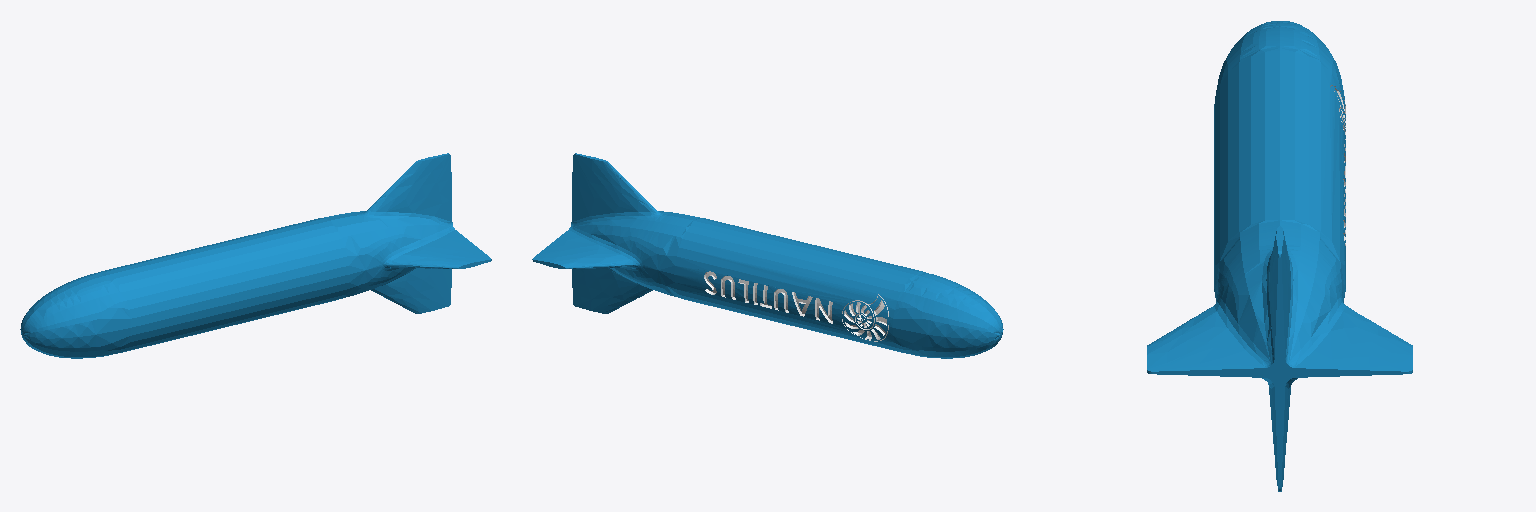
URDF robot description (nautilus_torpedo):
<?xml version="1.0"?>
<!--
  Nautilus torpedo (Torpedo_Myring_large_fins_CFDV2), PETG, density 1.20 g/cm^3.

  Link frame  = SolidWorks coordinate system "CM": origin at the centre of mass,
                +X along the body from nose to tail, +Y towards the logo / NAUTILUS side.
  Visual mesh = nautilus_torpedo.dae. Its own frame is the SolidWorks part frame (origin at
                the nose tip) rotated 90 deg about X by the Blender STEP import, so the visual
                origin moves the nose tip 74.68 mm ahead of the CM and rotates the mesh back
                by -90 deg about X.
  Inertial    = SolidWorks mass properties "taken at the centre of mass and aligned with the
                output coordinate system", converted g*mm^2 -> kg*m^2 (x 1e-9).
                Products of inertia are negated: SolidWorks "positive tensor notation" gives
                +integral(xy dm), URDF expects the tensor element -integral(xy dm).
-->
<robot name="nautilus_torpedo">

  <link name="torpedo_link">

    <inertial>
      <!-- true CM relative to the CM coordinate system (SolidWorks: X 0.00000585, Y -0.04334728, Z 0.00054189 mm) -->
      <origin xyz="5.85e-09 -4.334728e-05 5.4189e-07" rpy="0 0 0"/>
      <mass value="0.07557701388"/>
      <inertia ixx="6.09383300215e-06"  ixy="-4.940675075e-08" ixz="8.9804409e-10"
               iyy="1.1327102134894e-04" iyz="-5.3954128e-10"
               izz="1.1323470730373e-04"/>
    </inertial>

    <visual>
      <origin xyz="-0.07468 0 0" rpy="-1.5707963267949 0 0"/>
      <geometry>
        <!-- change the package name to the one that holds your meshes -->
        <mesh filename="package://nautilus_description/meshes/nautilus_torpedo.dae" scale="1 1 1"/>
      </geometry>
    </visual>

    <collision>
      <!-- simple body cylinder: 25 mm diameter, 147 mm long, fins ignored.
           Cylinder axis is Z by default, so it is turned onto X. -->
      <origin xyz="-0.00118 0 0" rpy="0 1.5707963267949 0"/>
      <geometry>
        <cylinder radius="0.0125" length="0.147"/>
      </geometry>
    </collision>

  </link>

</robot>

--- Render facts (derived) ---
Views: 3 orthographic renders of the robot side by side, from view 1: azimuth 30°, elevation 25°; view 2: azimuth 150°, elevation 25°; view 3: azimuth 270°, elevation 25°.
Robot: nautilus_torpedo — 1 links, 0 joints (none); root link torpedo_link; default pose: all joints at 0.
Links seen in each view (by area): view 1: torpedo_link; view 2: torpedo_link; view 3: torpedo_link.
Boxes of the visible links, x1,y1,x2,y2 form: torpedo_link: (20,153,491,358); torpedo_link: (532,153,1003,358); torpedo_link: (1147,21,1412,491).
Bounding box of the posed robot: 0.147 × 0.05 × 0.05 m (x, y, z).
1 mesh visuals loaded from 1 distinct referenced files (1 Collada DAE).
